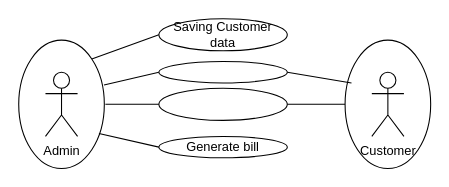
This 449x187 diagram has some shape labels left out. The shapes that lost their labels are listed below. From the top down, each one's centre as x and y in pixels, then its label:
pixel 222 71: Booking
pixel 222 103: Summery of booking
